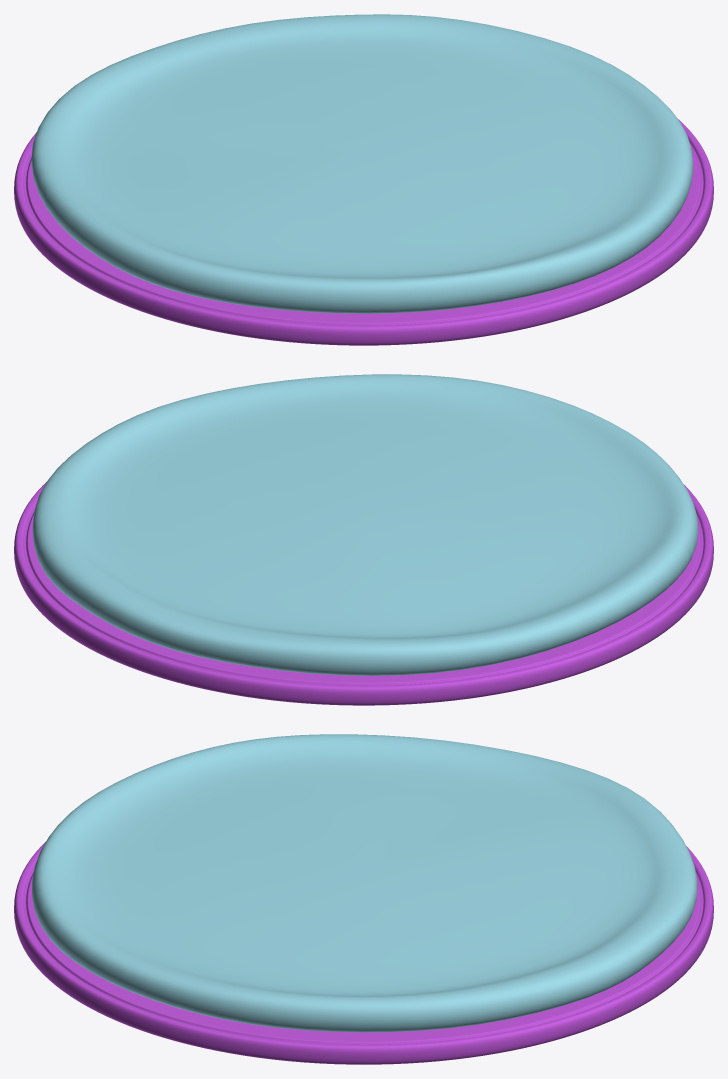
Rendered from Pizza_OBJ.obj.
3 views of the same model, one above another, from view 1: azimuth 30°, elevation 25°; view 2: azimuth 150°, elevation 25°; view 3: azimuth 270°, elevation 25° (orthographic).
Visible parts, largest first — view 1: Cylinder001, Cylinder002; view 2: Cylinder001, Cylinder002; view 3: Cylinder001, Cylinder002.
Boxes of the visible parts, x1=… form: Cylinder001: x1=31, y1=14, x2=693, y2=313; Cylinder002: x1=14, y1=119, x2=713, y2=345; Cylinder001: x1=32, y1=374, x2=698, y2=675; Cylinder002: x1=14, y1=482, x2=713, y2=705; Cylinder001: x1=31, y1=734, x2=697, y2=1032; Cylinder002: x1=14, y1=842, x2=713, y2=1064.
Size of the model in its own units: 417 by 33.55 by 417.
